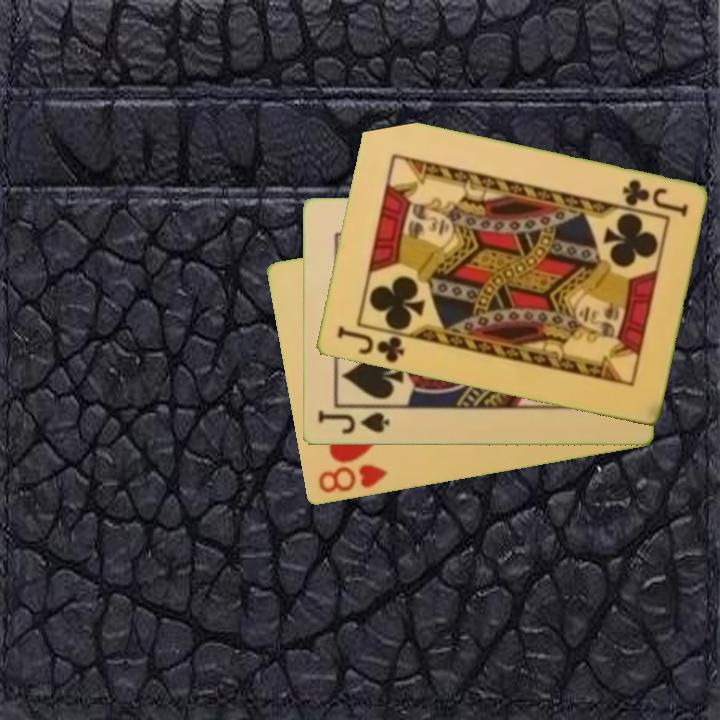8h: (314, 461, 391, 497)
Jc: (618, 176, 691, 220), (333, 323, 407, 366)
Js: (315, 407, 392, 437)
